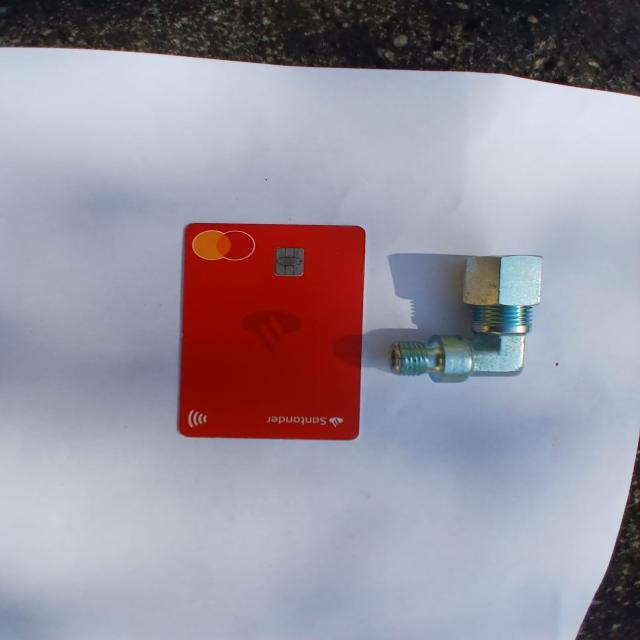cartao: (179, 224, 364, 440)
rosca_externa: (391, 255, 542, 384)
